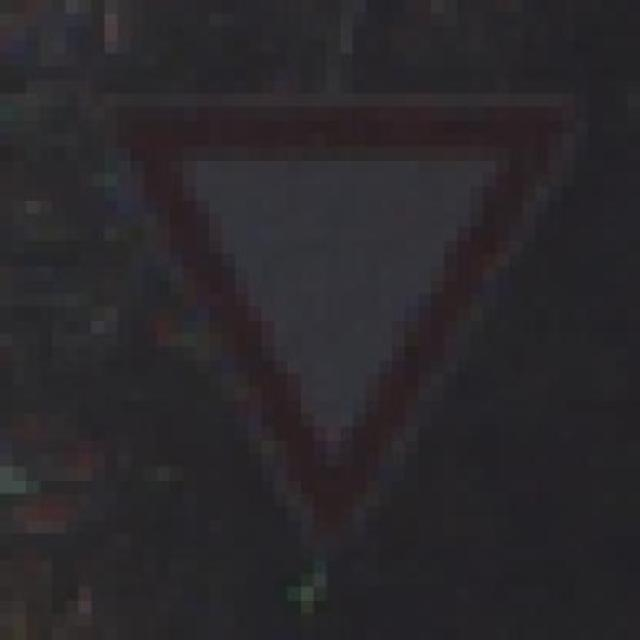Give Way: (78, 80, 588, 560)
